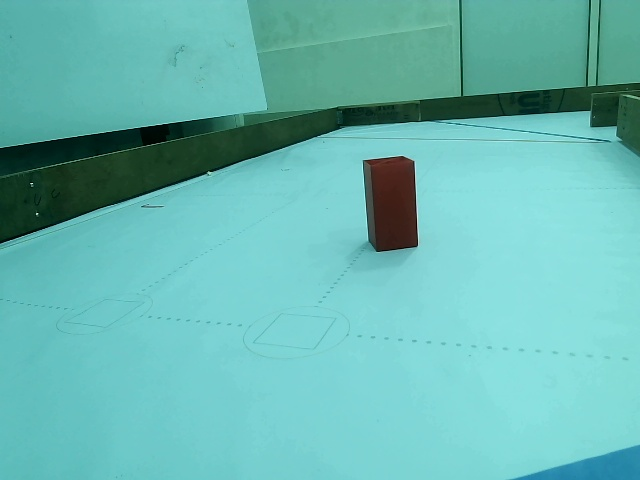red: (367, 161, 418, 248)
